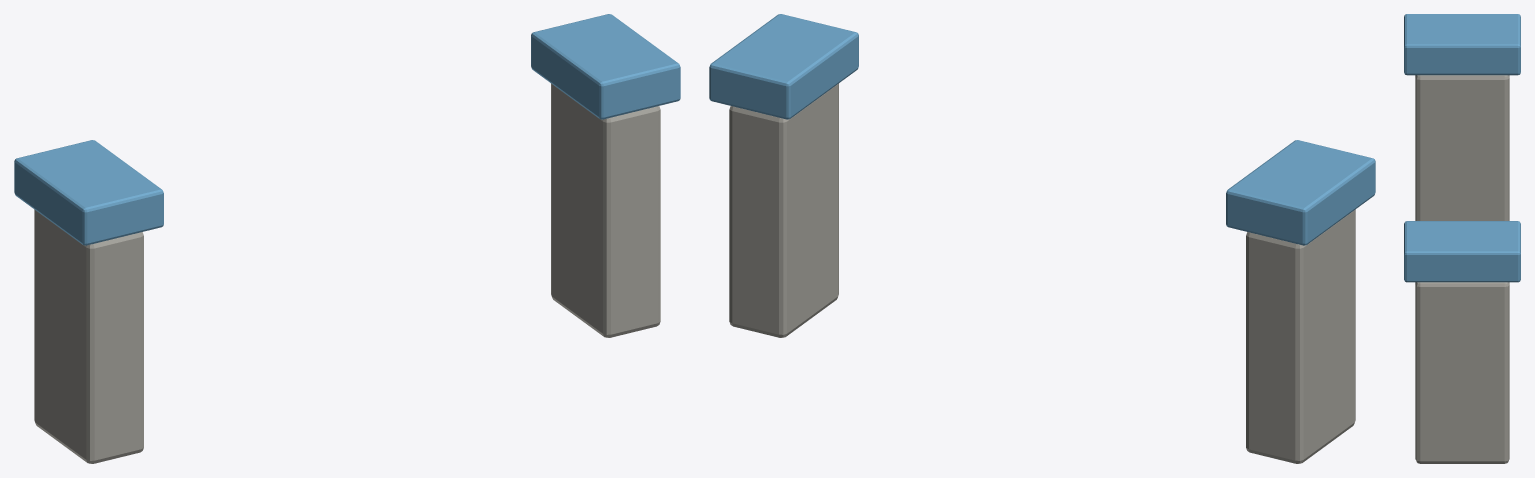
Rendered from gate_frame.glb.
3 views of the same model, side by side, from view 1: azimuth 30°, elevation 25°; view 2: azimuth 150°, elevation 25°; view 3: azimuth 270°, elevation 25° (orthographic). The views are drawn at different scales.
Visible parts, largest first — view 1: GEO_Post_R, GEO_Post_L, GEO_Cap_L, GEO_Cap_R; view 2: GEO_Post_R, GEO_Post_L, GEO_Cap_L, GEO_Cap_R; view 3: GEO_Post_R, GEO_Post_L, GEO_Cap_R, GEO_Cap_L.
Boxes of the visible parts, x1,y1,x2,y2 form: GEO_Post_R: [551, 83, 660, 337]; GEO_Post_L: [34, 209, 143, 463]; GEO_Cap_L: [14, 140, 163, 245]; GEO_Cap_R: [531, 14, 680, 119]; GEO_Post_R: [729, 83, 838, 337]; GEO_Post_L: [1246, 209, 1355, 463]; GEO_Cap_L: [1226, 140, 1375, 245]; GEO_Cap_R: [709, 14, 858, 119]; GEO_Post_R: [1415, 282, 1509, 463]; GEO_Post_L: [1415, 75, 1509, 220]; GEO_Cap_R: [1404, 221, 1520, 282]; GEO_Cap_L: [1404, 14, 1520, 75].
Bounding box in the file's own units: 3.98 × 1.69 × 0.82.
